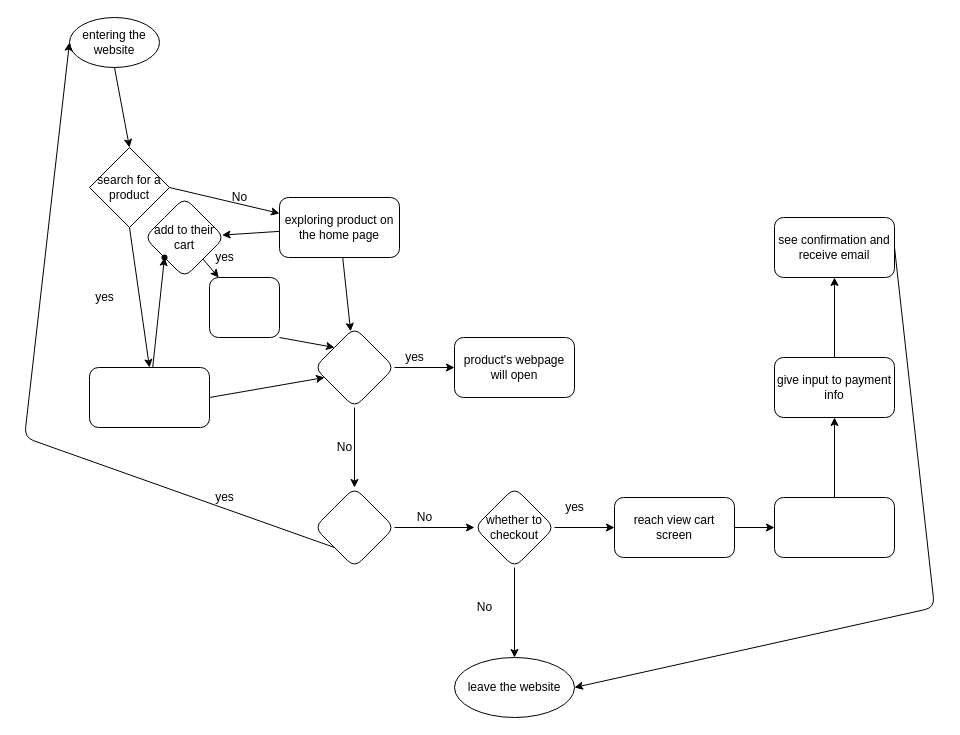
The diagram is 960 pixels wide and 735 high, and some of its shapes have lost their labels. Each missing label, with the centre of its shape:
"cart confirmation" belongs at (x=244, y=307).
"continue shopping" belongs at (x=354, y=527).
"user provide input of their research" belongs at (x=149, y=397).
"view a specific product" belongs at (x=354, y=367).
"view payment screen" belongs at (x=834, y=527).
